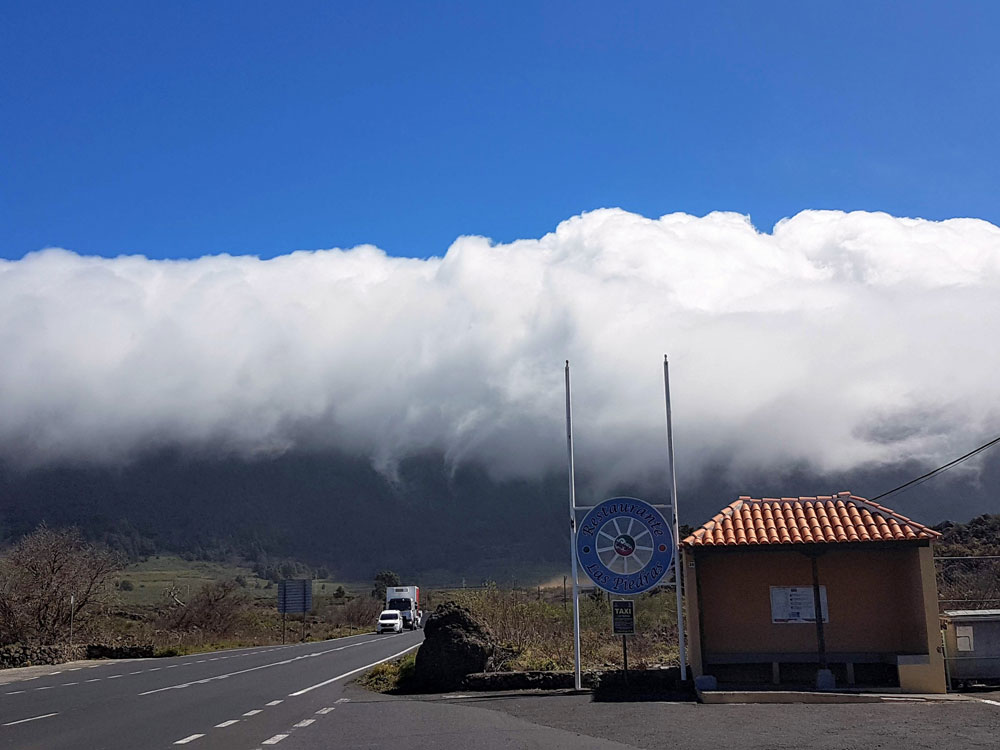Stratus: (10, 195, 1000, 479)
